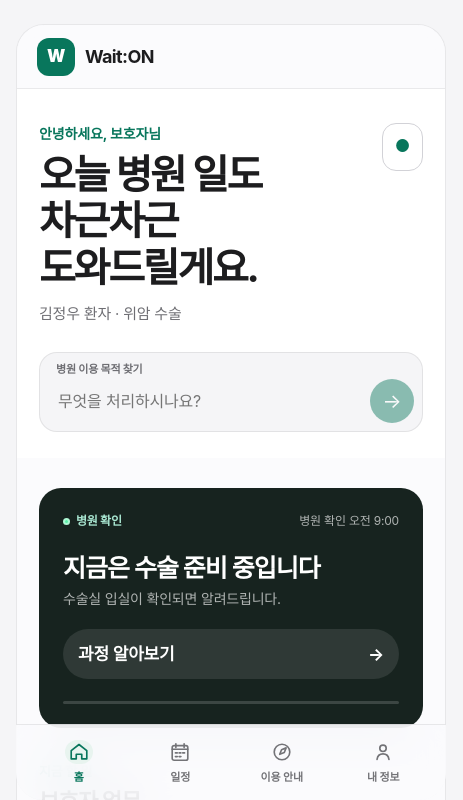
Test: CaregiverJourneyApp › 일정 탭에서 환자 일정 날짜와 빈 날짜를 확인한다
Click the button "일정". click: (180, 762)
box: [132, 733, 229, 792]
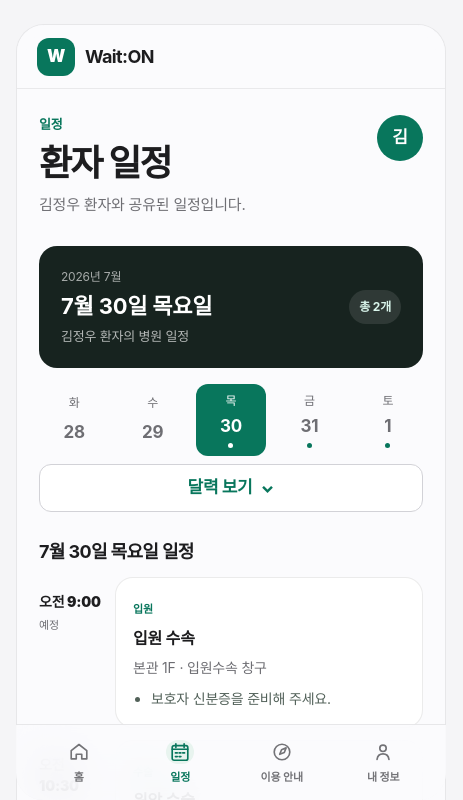
Expected: the text "입원 수속" is shown, [133, 628, 195, 648]
Result: the heading "환자 일정" is shown at [39, 140, 171, 184]
Result: the text "2026년 7월" is shown at [61, 269, 121, 284]
Click the button named "29일 수, 일정 없음". click: (153, 420)
box: [117, 384, 188, 456]
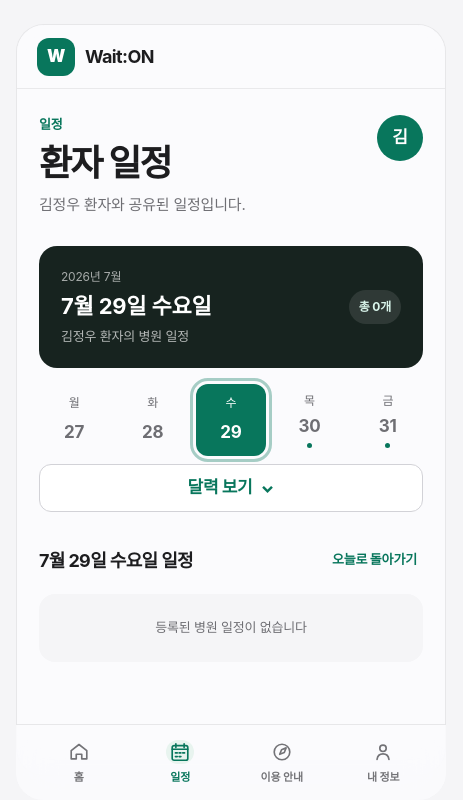
Result: the text "등록된 병원 일정이 없습니다" is shown at [39, 594, 423, 662]
Click the button "달력 보기 ⌄". click: (231, 488)
box: [39, 464, 423, 512]
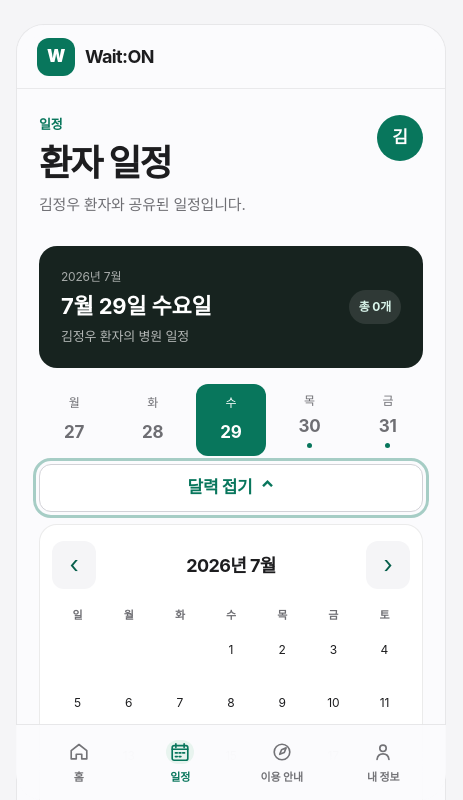
Click the button named "31일 금, 일정 1개". click: (388, 420)
box: [353, 384, 423, 456]
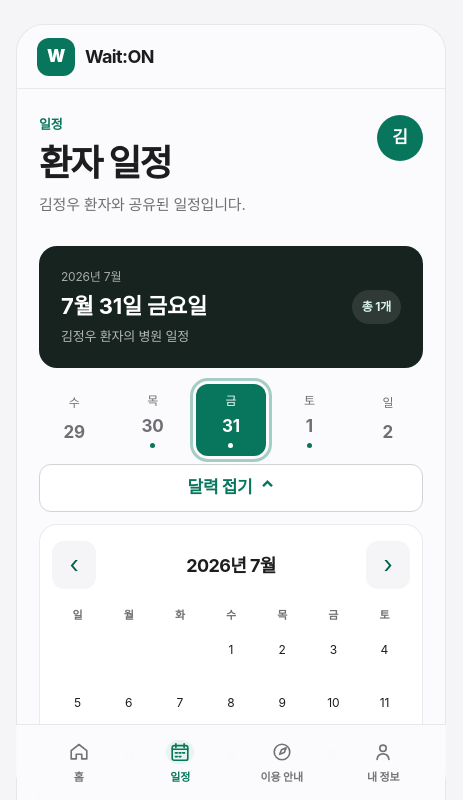
Click the button named "1일 토, 일정 1개". click: (309, 420)
box: [274, 384, 345, 456]
(page scrolled)
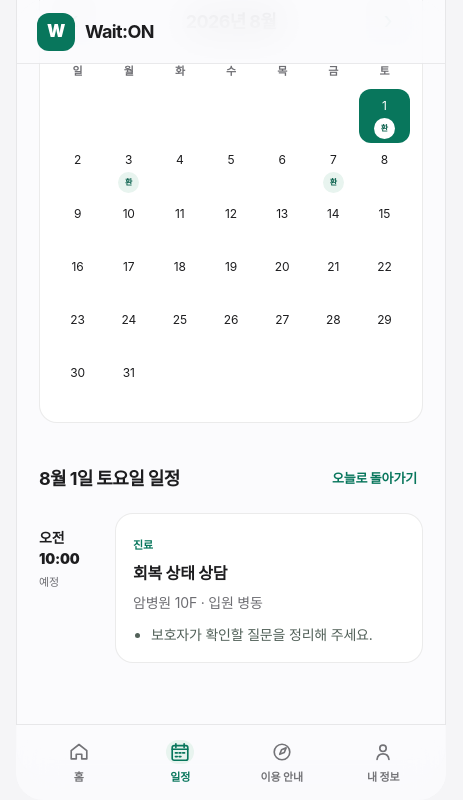
Result: the text "회복 상태 상담" is shown at [133, 563, 227, 583]
Result: the list item "보호자가 확인할 질문을 정리해 주세요." is shown at [151, 624, 405, 646]
